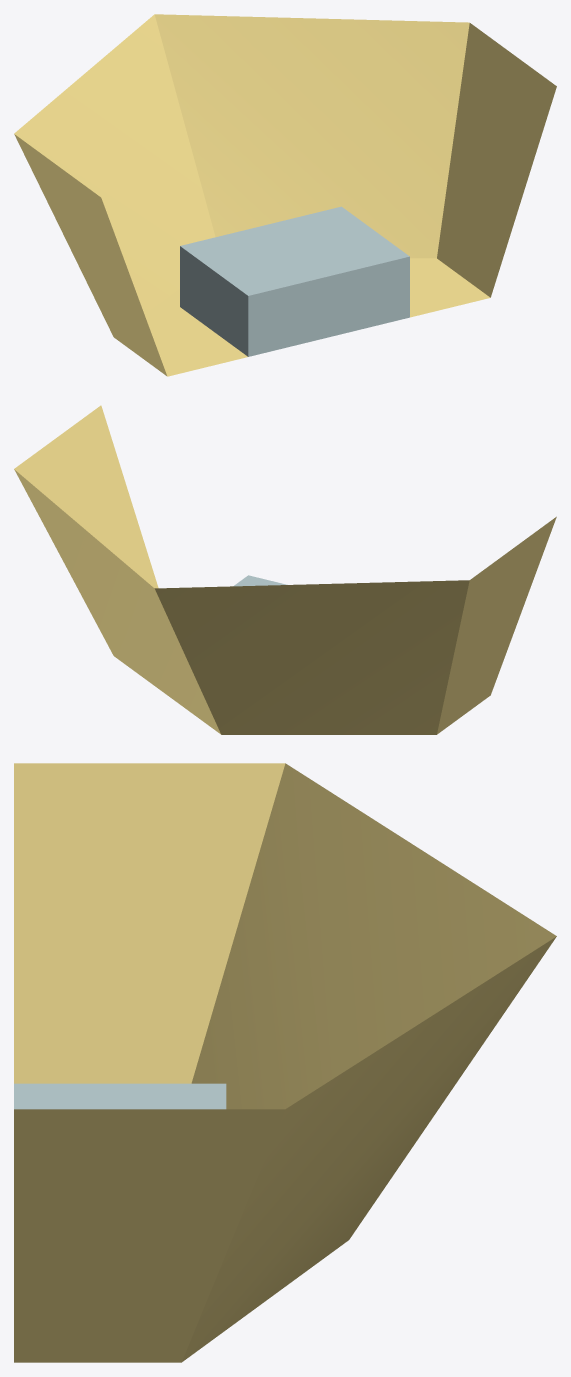
Rendered from lampWall.fbx.
The picture shows the model from 3 angles, top to bottom: view 1: azimuth 30°, elevation 25°; view 2: azimuth 150°, elevation 25°; view 3: azimuth 270°, elevation 25°; orthographic projection. The views are drawn at different scales.
Parts seen in each view (by area): view 1: lampWall; view 2: lampWall; view 3: lampWall.
Part boxes in pixels (x1=…): lampWall: x1=14, y1=14, x2=556, y2=376; lampWall: x1=14, y1=405, x2=556, y2=734; lampWall: x1=14, y1=763, x2=556, y2=1362.
Bounding box in the file's own units: 2.27 × 0.928 × 1.5.
